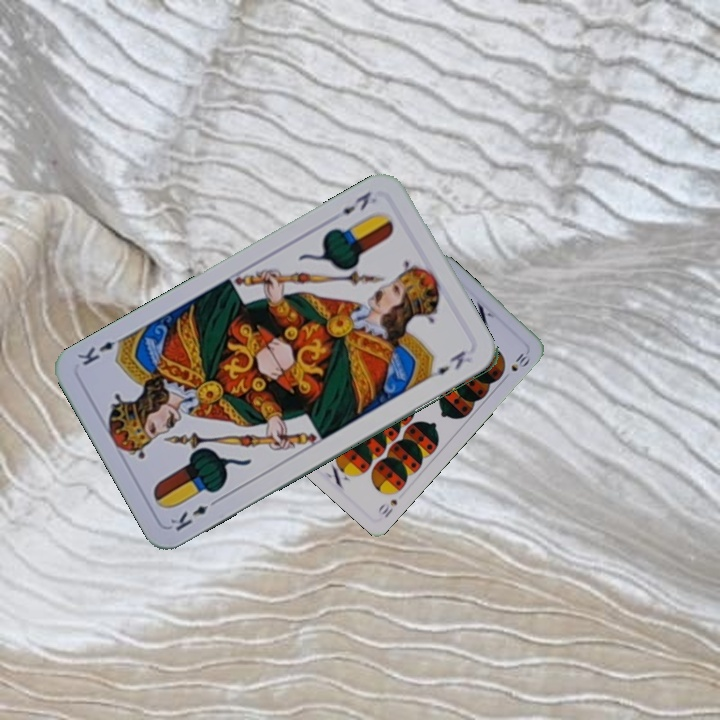EK: (166, 494, 222, 534), (337, 187, 374, 217)
S10: (373, 495, 400, 520)
